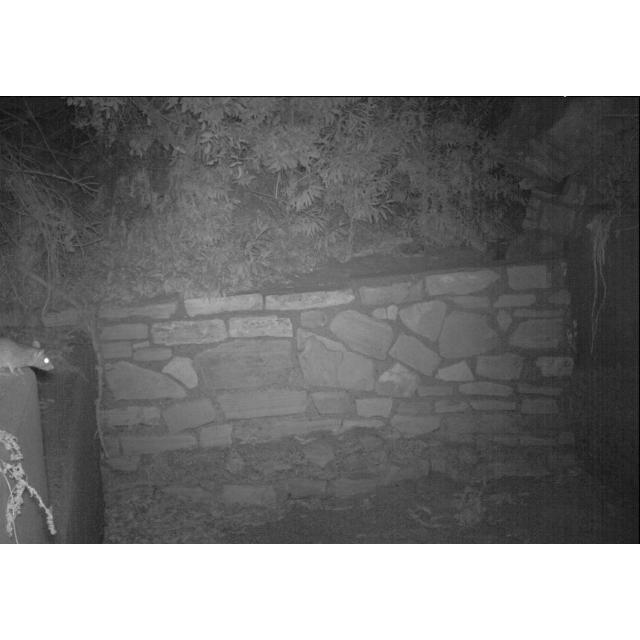animals: (0, 332, 58, 380)
